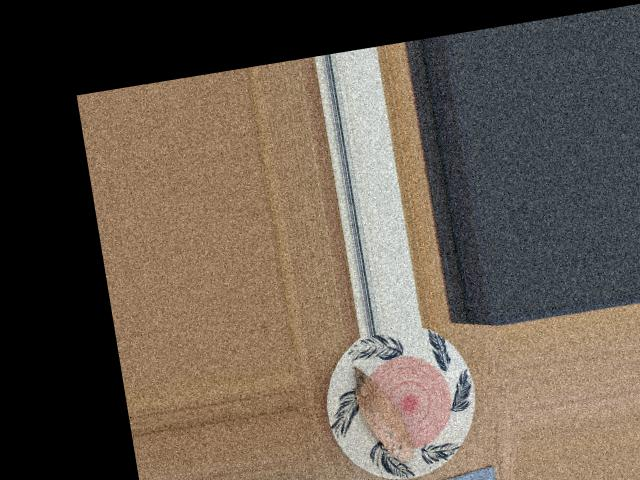sweet_potato: (352, 369, 417, 461)
